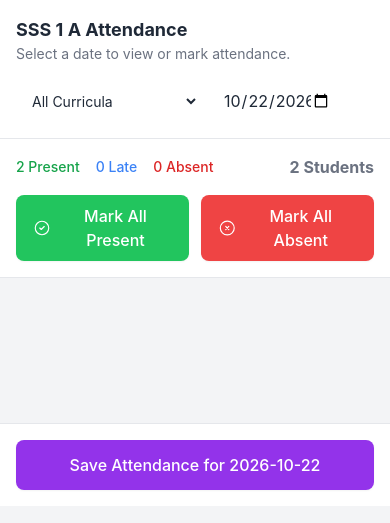
it: TeacherMarkAttendanceScreen curriculum track filter › filters students by curriculum track for a dual-curriculum branch
This screenshot has width=390, height=523.
Select "🇳🇬 Nigerian Track" in the dropdown showing "All Curricula" at (108, 101), box [16,84,199,118]
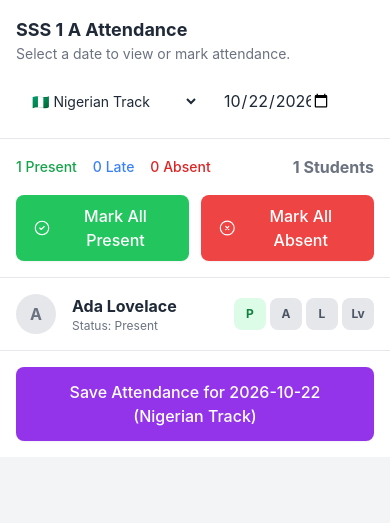
Check: the text "Ada Lovelace" is shown, box [72,294,177,318]
